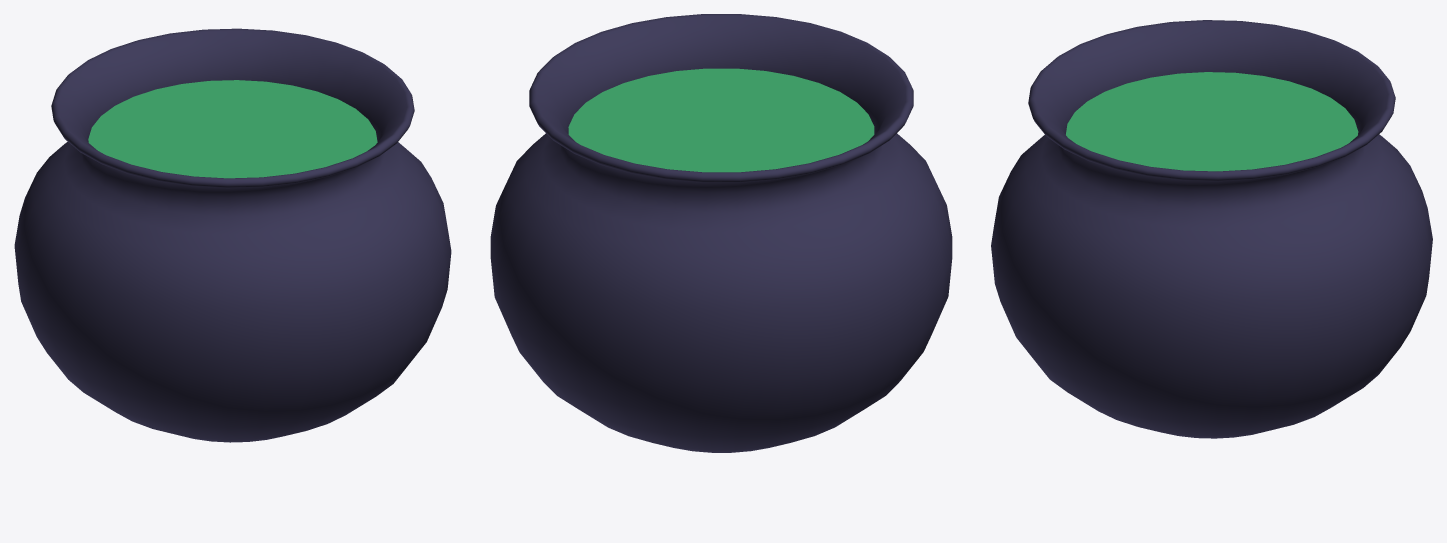
The model's file is Cauldron.fbx.
The picture shows the model from 3 angles, left to right: view 1: azimuth 30°, elevation 25°; view 2: azimuth 150°, elevation 25°; view 3: azimuth 270°, elevation 25°; orthographic projection. The views are drawn at different scales.
Visible parts, largest first — view 1: Kessel; view 2: Kessel; view 3: Kessel.
Boxes of the visible parts, x1,y1,x2,y2 form: Kessel: (14, 28, 451, 442); Kessel: (490, 14, 952, 452); Kessel: (991, 20, 1432, 438).
Bounding box in the file's own units: 364 × 336 × 364.
